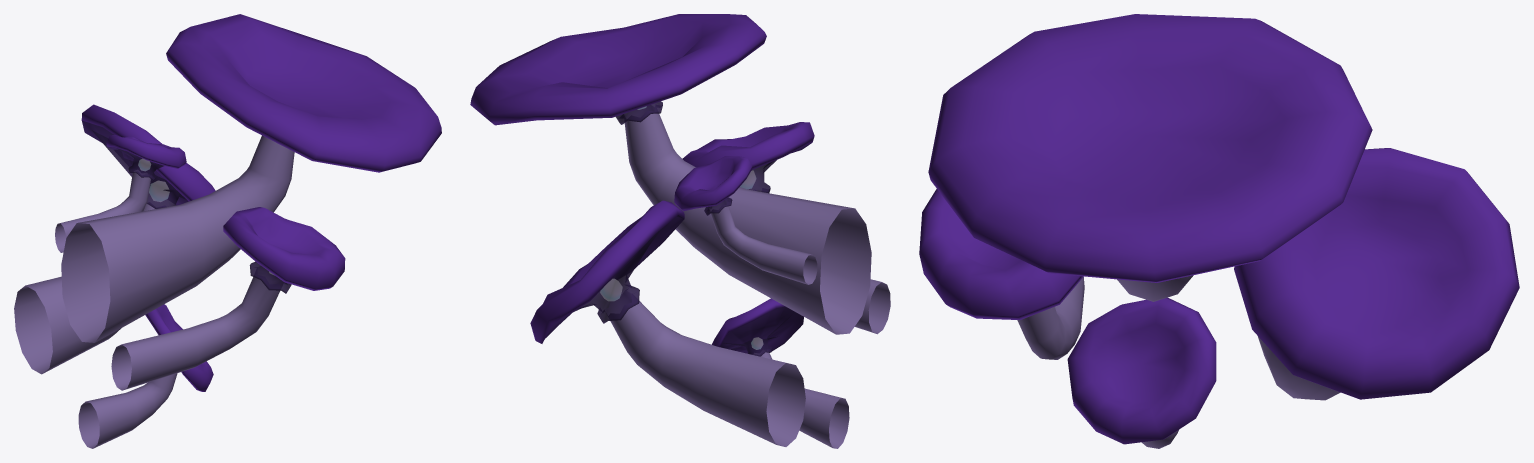
Rendered from Mushroom_Wall_group_merged.fbx.
3 views of the same model, side by side, from view 1: azimuth 30°, elevation 25°; view 2: azimuth 150°, elevation 25°; view 3: azimuth 270°, elevation 25° (orthographic). The views are drawn at different scales.
Parts seen in each view (by area): view 1: Mushroom_Wall_group_merged; view 2: Mushroom_Wall_group_merged; view 3: Mushroom_Wall_group_merged.
Part boxes in pixels (<box>): Mushroom_Wall_group_merged: <box>14,14,441,448</box>; Mushroom_Wall_group_merged: <box>470,14,890,448</box>; Mushroom_Wall_group_merged: <box>919,14,1519,448</box>.
Bounding box in the file's own units: 328 × 351 × 325.
